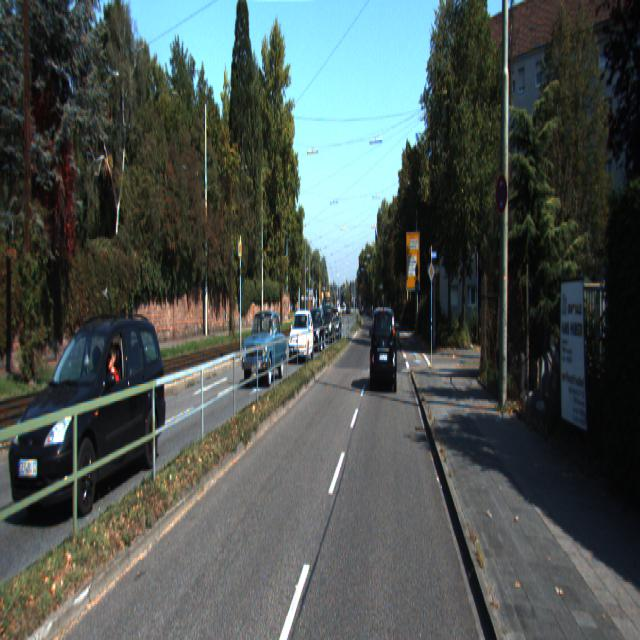Car: (10, 310, 172, 523), (242, 309, 288, 384), (371, 305, 399, 395), (289, 308, 315, 364), (306, 306, 326, 354), (320, 305, 335, 345)
